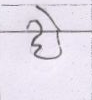e_matra: (36, 5, 63, 30)
